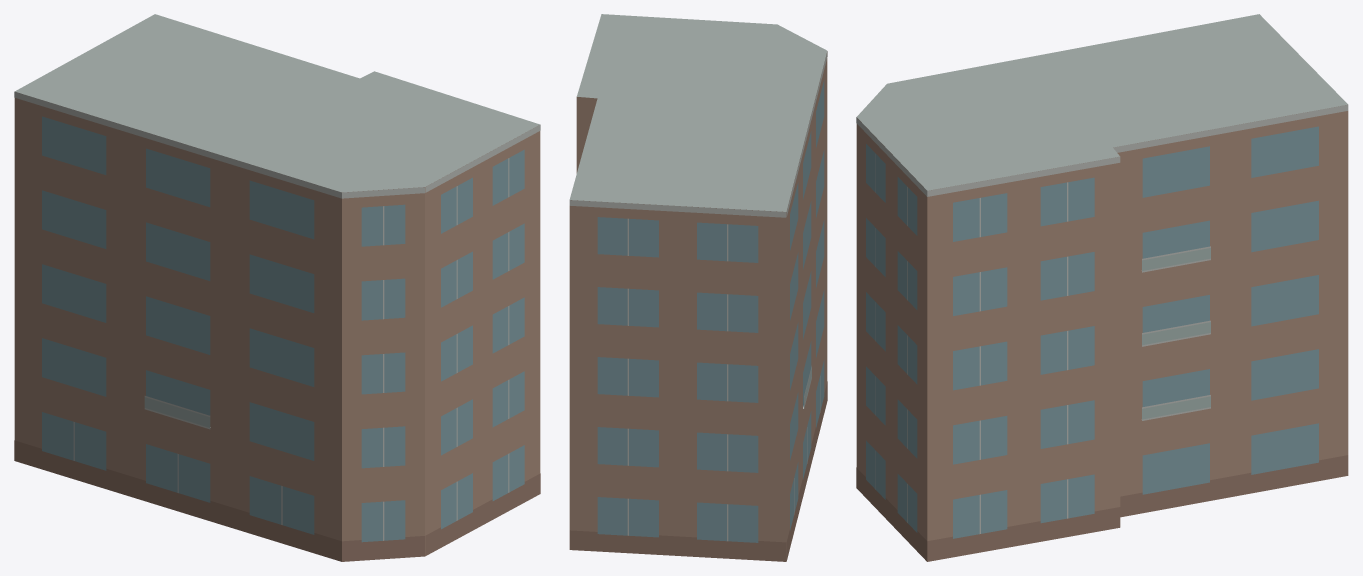
Rendered from survey-upis-32881055.glb.
3 views of the same model, side by side, from view 1: azimuth 30°, elevation 25°; view 2: azimuth 150°, elevation 25°; view 3: azimuth 270°, elevation 25° (orthographic). The views are drawn at different scales.
Parts seen in each view (by area): view 1: survey-upis-32881055.tmp; view 2: survey-upis-32881055.tmp; view 3: survey-upis-32881055.tmp.
Part boxes in pixels (bbox=[...]): survey-upis-32881055.tmp: bbox=[14, 14, 540, 561]; survey-upis-32881055.tmp: bbox=[569, 14, 827, 561]; survey-upis-32881055.tmp: bbox=[856, 14, 1348, 561].
Bounding box in the file's own units: 15.03 × 14.7 × 17.67.
